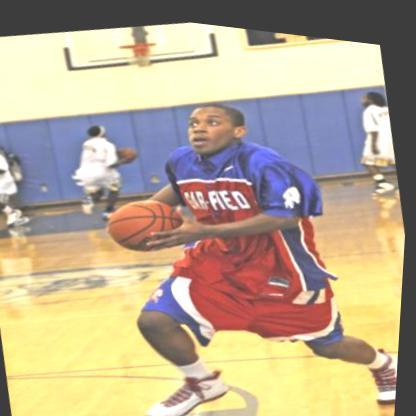basketball: (105, 185, 192, 258)
